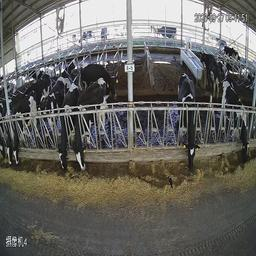cow: (74, 79, 108, 170), (176, 72, 198, 178), (10, 90, 40, 166), (221, 80, 248, 164), (37, 76, 65, 145), (57, 81, 78, 171), (86, 66, 125, 108), (197, 51, 219, 102)
